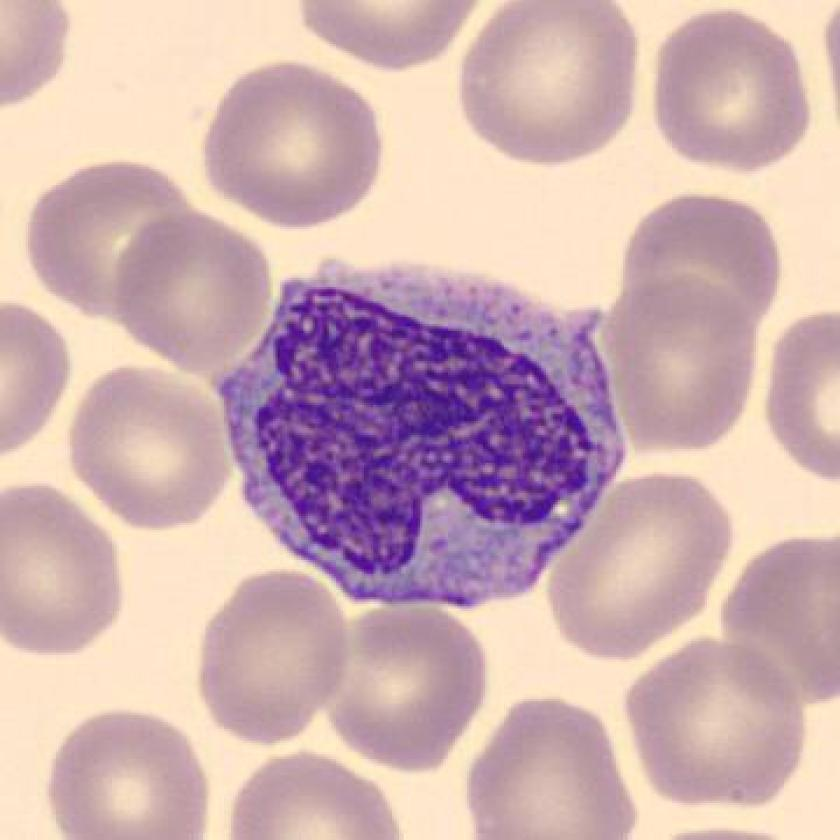monocyte: (193, 240, 655, 631)
